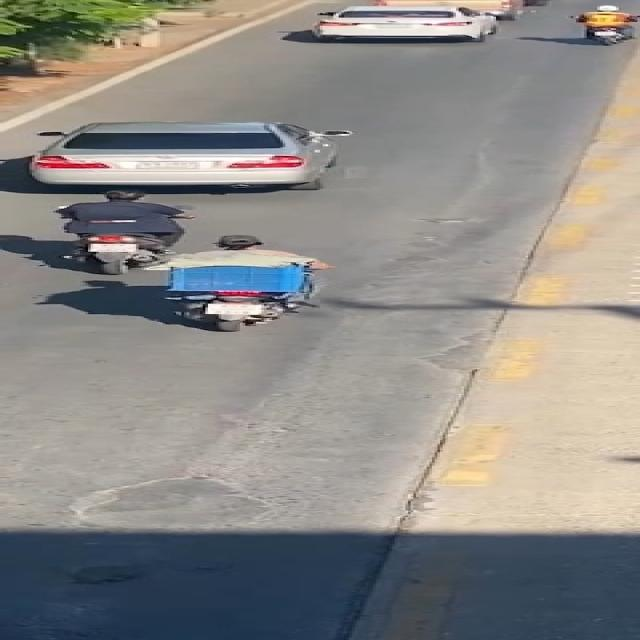car: (15, 116, 362, 192), (290, 4, 518, 46)
